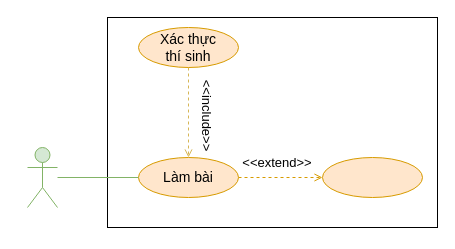
The diagram is 455 pixels wide and 249 high, and some of its shapes have lost their labels. The box of each missing label's shape, as (x1, y1, x2, y2) in pixels:
nộp bài: (322, 156, 422, 198)
Thí sinh: (26, 146, 58, 208)
